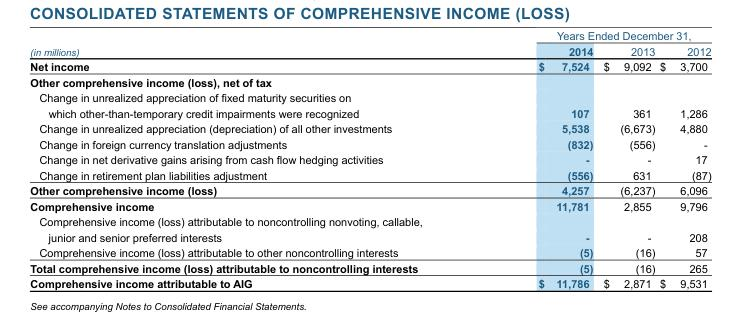table: (29, 29, 710, 289)
table column: (29, 29, 477, 289), (477, 29, 597, 289), (597, 29, 656, 289), (656, 29, 710, 289)
table column header: (29, 29, 710, 58)
table projected row header: (29, 89, 710, 105), (29, 213, 710, 229), (29, 74, 710, 89)
table row: (29, 58, 710, 74), (29, 89, 710, 105), (29, 120, 710, 136), (29, 151, 710, 167), (29, 182, 710, 198), (29, 213, 710, 229), (29, 244, 710, 260), (29, 43, 710, 58), (29, 74, 710, 89), (29, 105, 710, 120), (29, 136, 710, 151), (29, 167, 710, 182), (29, 198, 710, 213), (29, 229, 710, 244), (29, 260, 710, 275), (29, 29, 710, 43), (29, 275, 710, 289)
table spanning cell: (29, 29, 477, 58), (477, 29, 710, 43)
